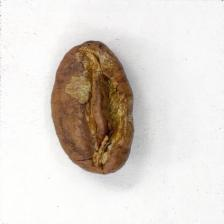NG: (53, 48, 125, 166)
